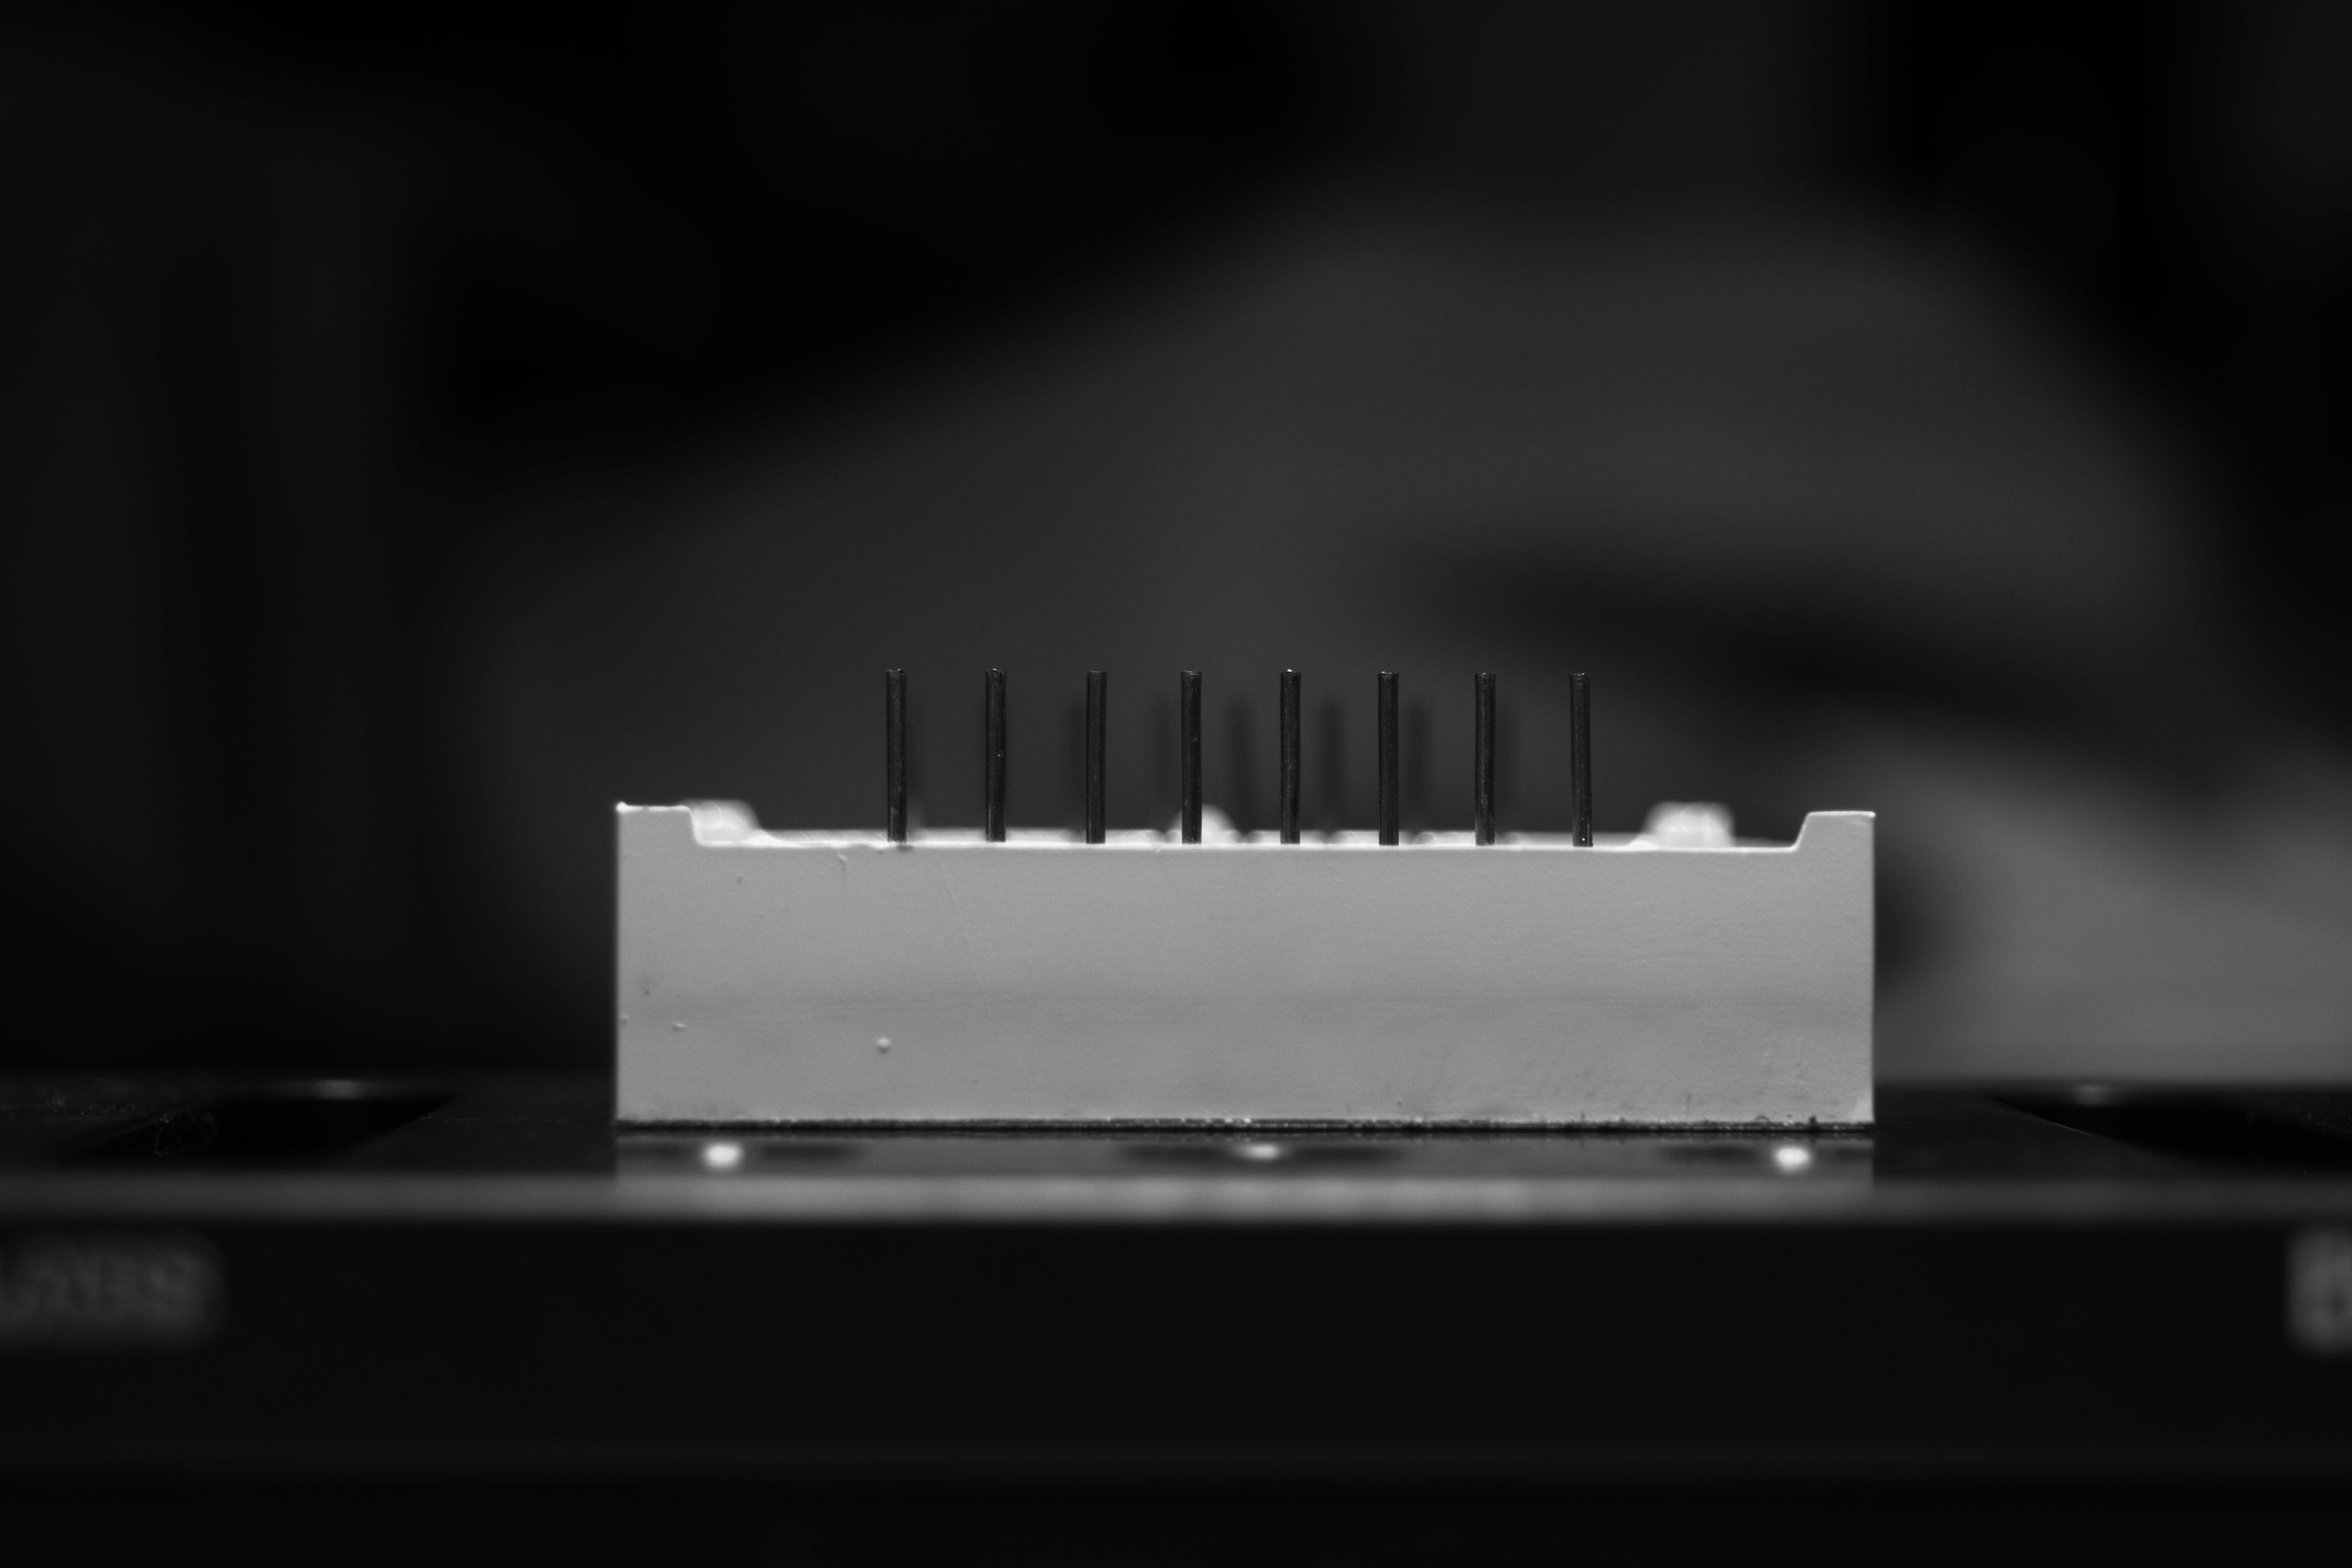glue: (926, 847, 992, 1001), (1741, 1038, 1781, 1078), (619, 994, 644, 1046), (826, 850, 868, 877), (668, 1017, 693, 1039), (875, 1034, 894, 1055), (1391, 1090, 1405, 1109), (733, 870, 745, 884), (969, 1073, 982, 1087), (719, 976, 730, 989), (640, 985, 653, 996), (647, 1104, 656, 1115)
pin_inclined_side: (1566, 668, 1596, 845)
